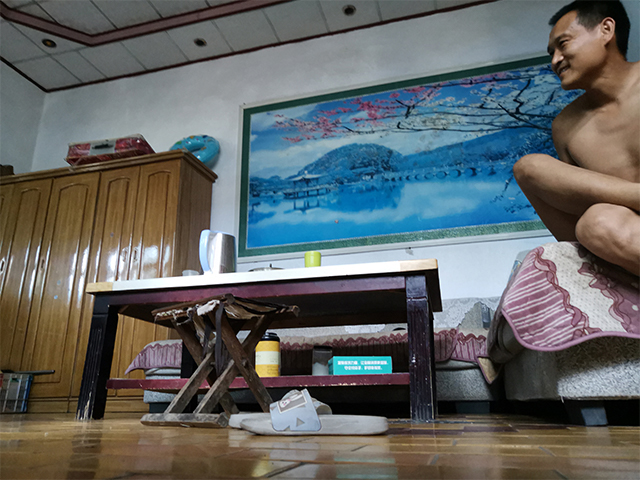cabinet: (1, 141, 220, 416)
slippers: (226, 386, 391, 438)
sofa: (122, 239, 639, 427)
stool: (138, 292, 302, 430)
table: (73, 257, 444, 421)
